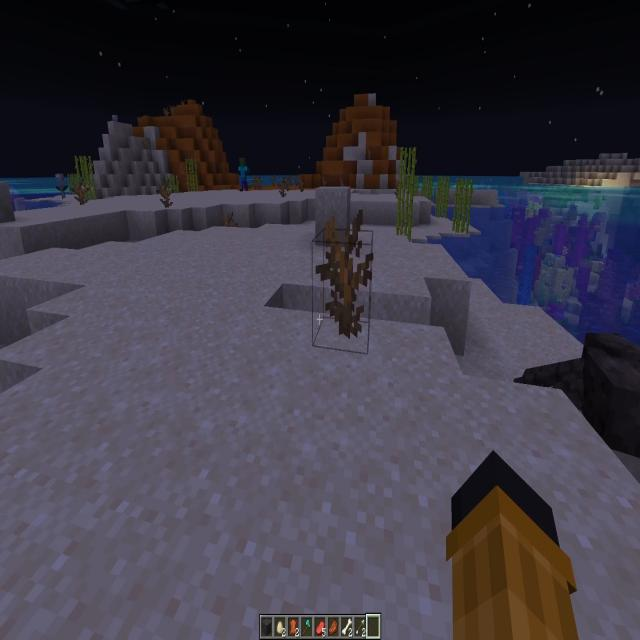Skeleton: (56, 172, 68, 200), (112, 113, 118, 122)
Spider: (523, 336, 640, 450)
Zombie: (239, 157, 249, 190)
